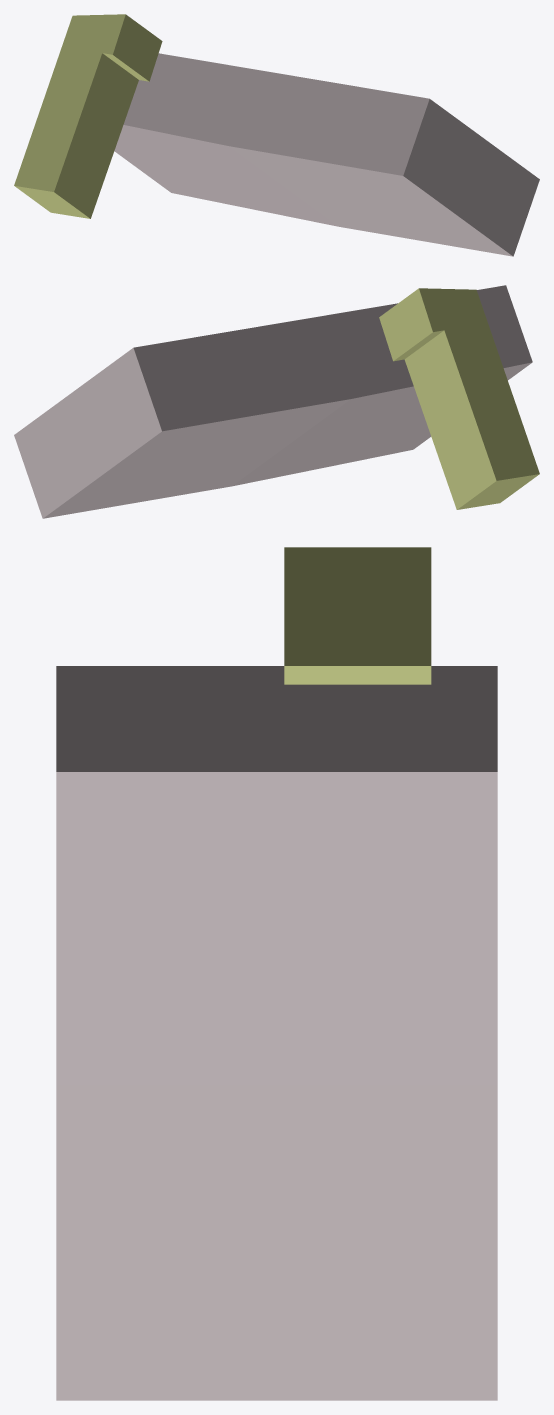
3 views of the same model, one above another, from view 1: azimuth 30°, elevation 25°; view 2: azimuth 150°, elevation 25°; view 3: azimuth 270°, elevation 25° (orthographic). The views are drawn at different scales.
Parts seen in each view (by area): view 1: 0_0_1_2_3_0_3_0; view 2: 0_0_1_2_3_0_3_0; view 3: 0_0_1_2_3_0_3_0.
Part boxes in pixels (<box>): 0_0_1_2_3_0_3_0: <box>14,14,539,256</box>; 0_0_1_2_3_0_3_0: <box>14,285,539,518</box>; 0_0_1_2_3_0_3_0: <box>56,547,497,1400</box>.
Size of the model in its own units: 40.74 by 23.17 by 18.
